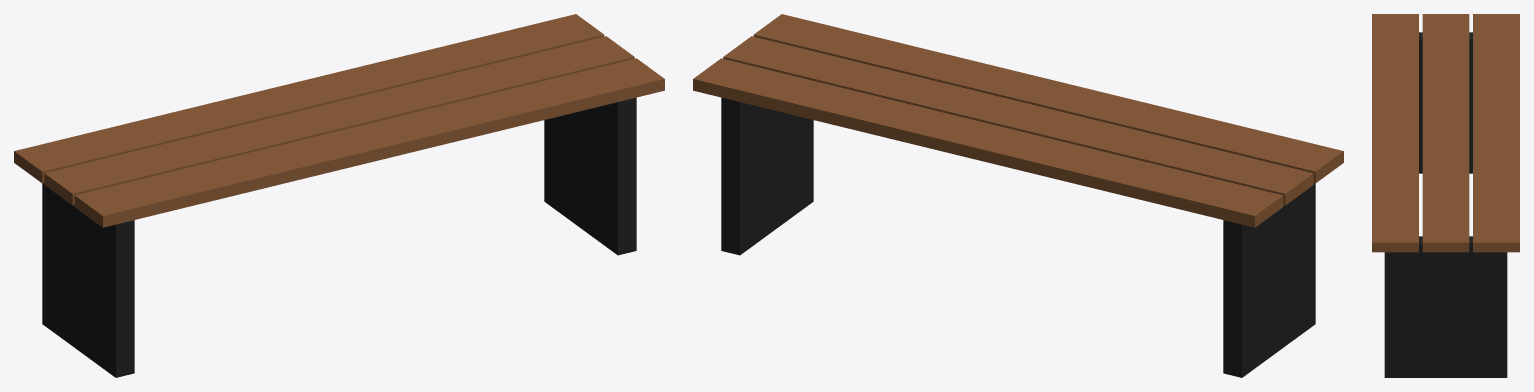
Rendered from parametric-bench-service.glb.
The picture shows the model from 3 angles, left to right: view 1: azimuth 30°, elevation 25°; view 2: azimuth 150°, elevation 25°; view 3: azimuth 270°, elevation 25°; orthographic projection. The views are drawn at different scales.
Visible parts, largest first — view 1: parametric-bench-service; view 2: parametric-bench-service; view 3: parametric-bench-service.
Part boxes in pixels (x1,y1,x2,y2): parametric-bench-service: (14, 14, 664, 377); parametric-bench-service: (693, 14, 1343, 377); parametric-bench-service: (1372, 14, 1519, 377).
Bounding box in the file's own units: 1.5 × 0.44 × 0.41.
